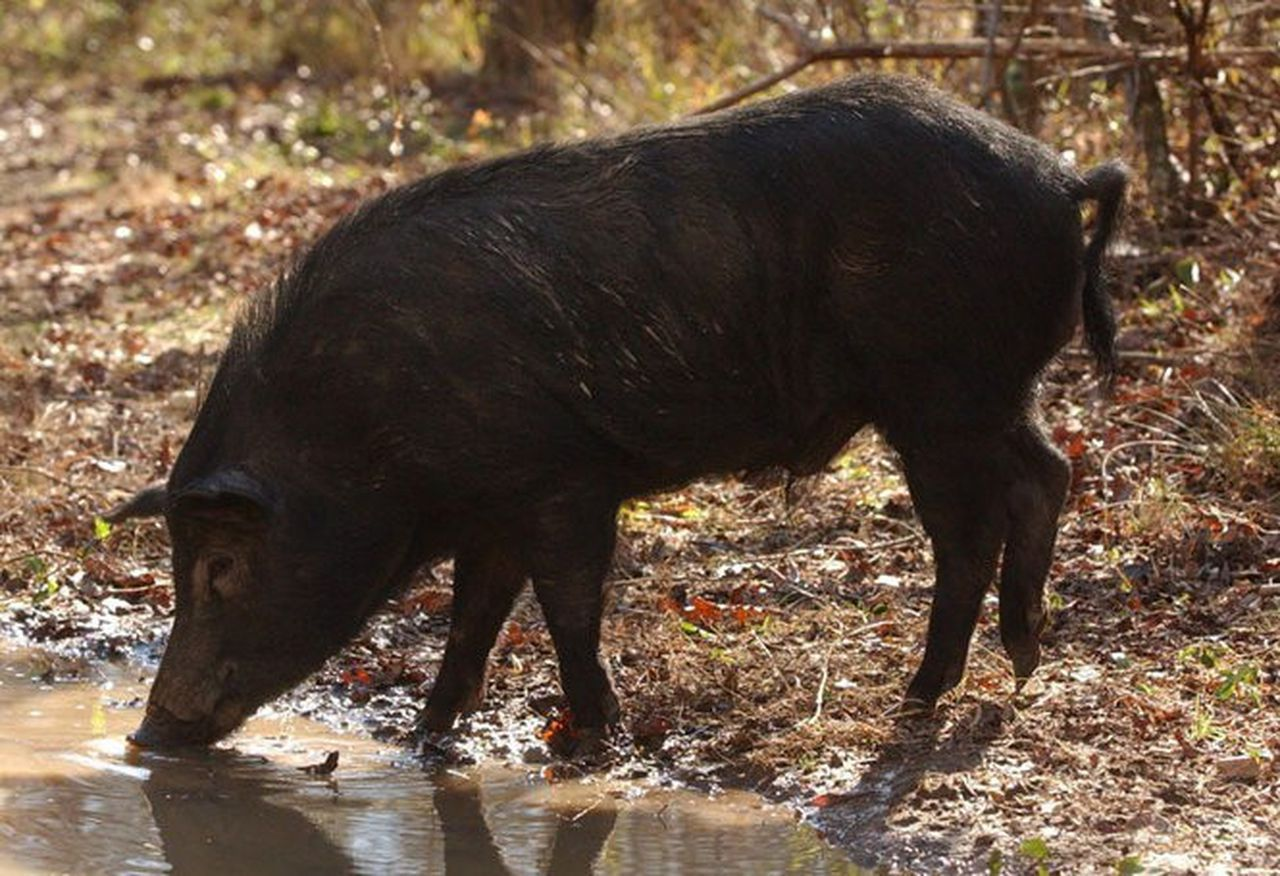boar: (98, 63, 1135, 794)
